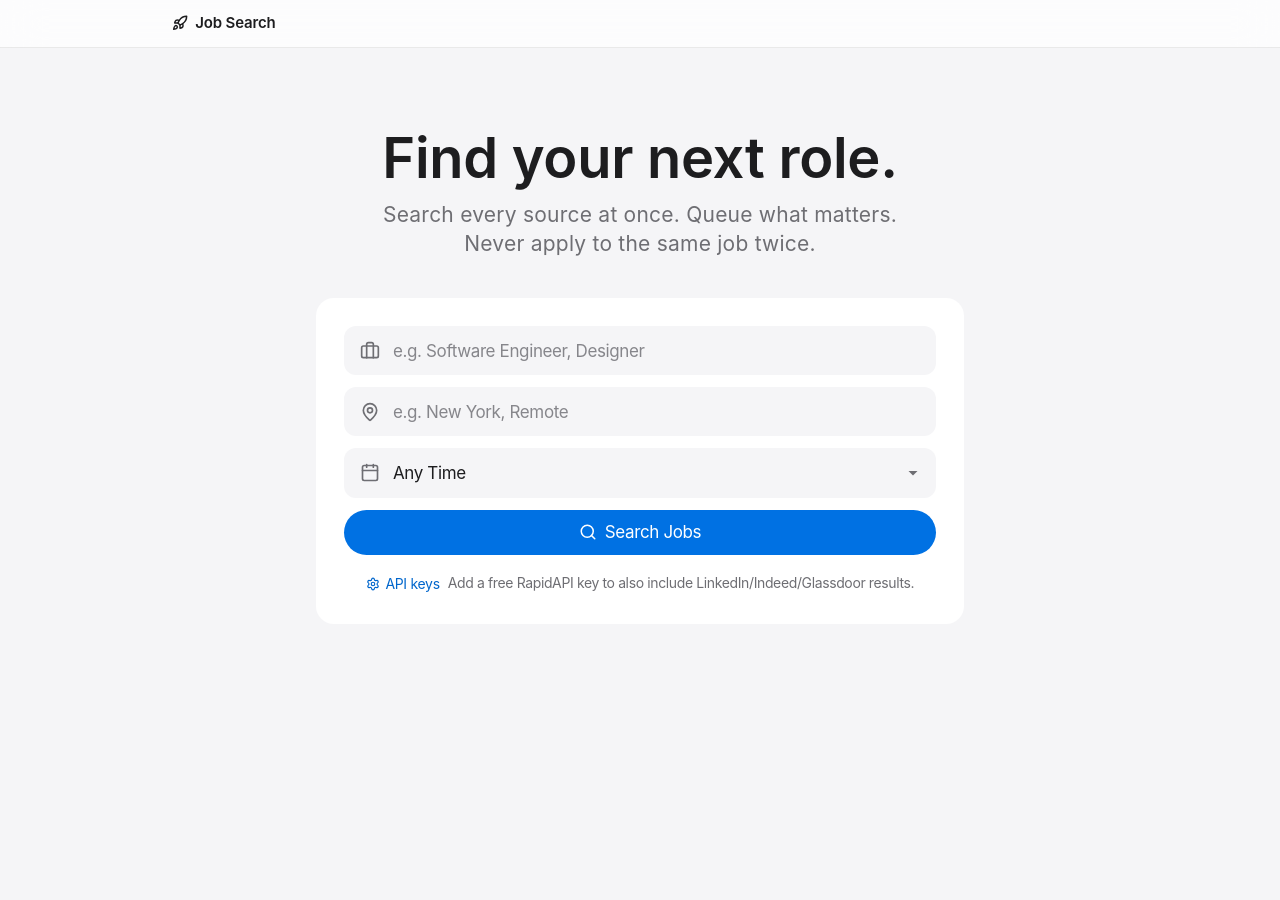
Scenario: apply queue › queues a job without navigating and persists it
The image size is (1280, 900).
Type "engineer" into the field named "Job title" at [640, 351], box x1=344 y1=326 x2=936 y2=375
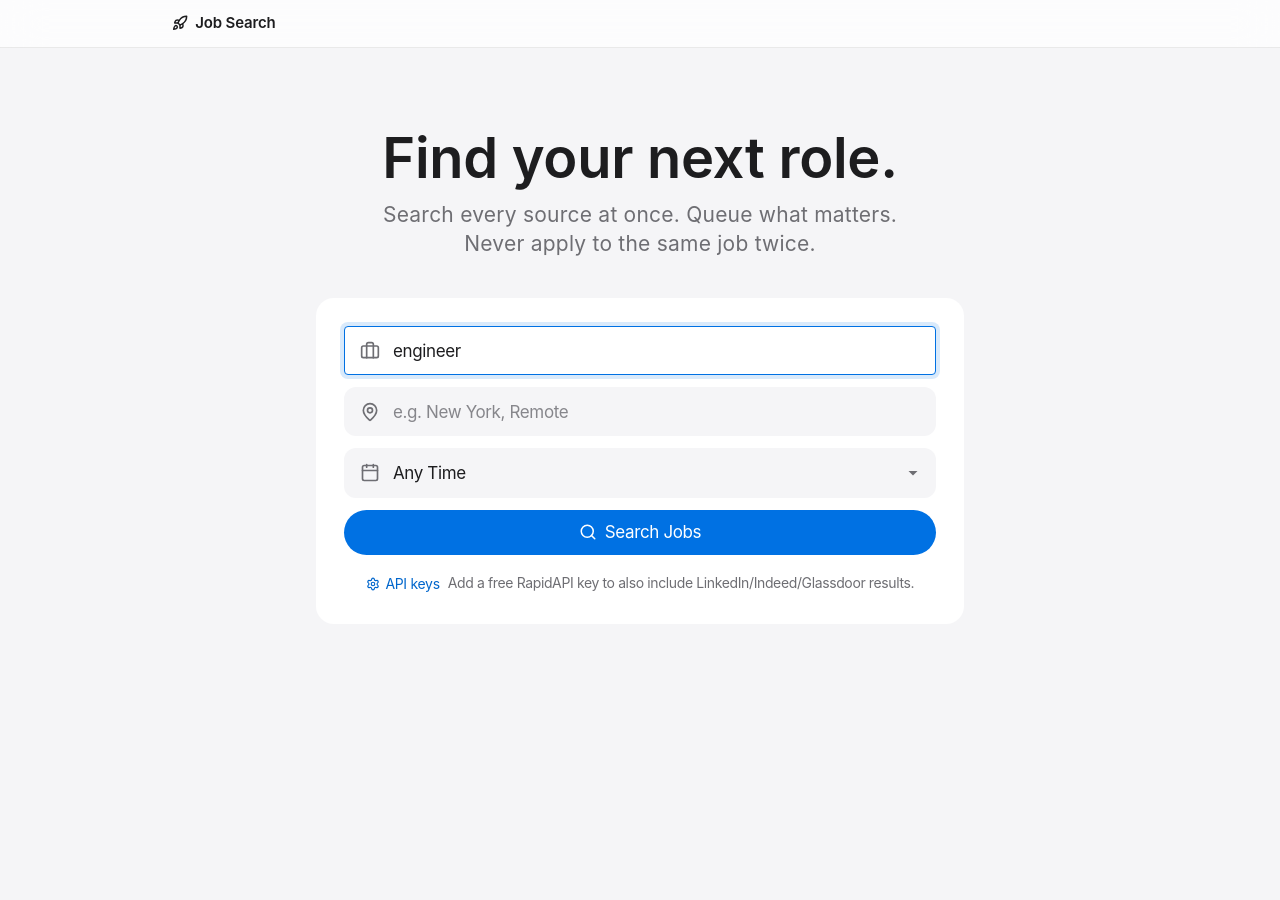
Click the button "Search Jobs" at [640, 532], box x1=344 y1=510 x2=936 y2=555
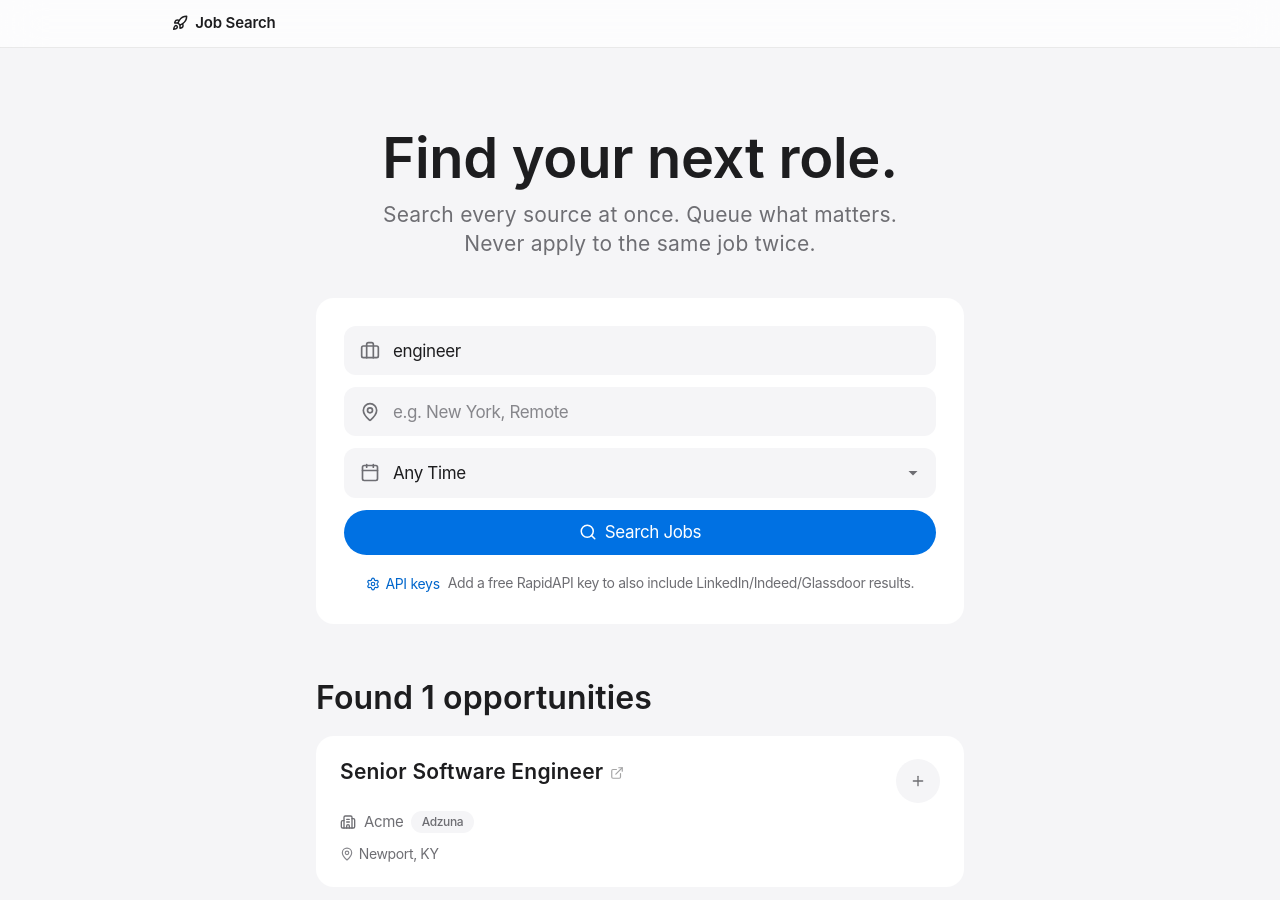
Click the button named "add senior software engineer to apply queue" at [918, 780], box x1=896 y1=758 x2=940 y2=802
(page scrolled)
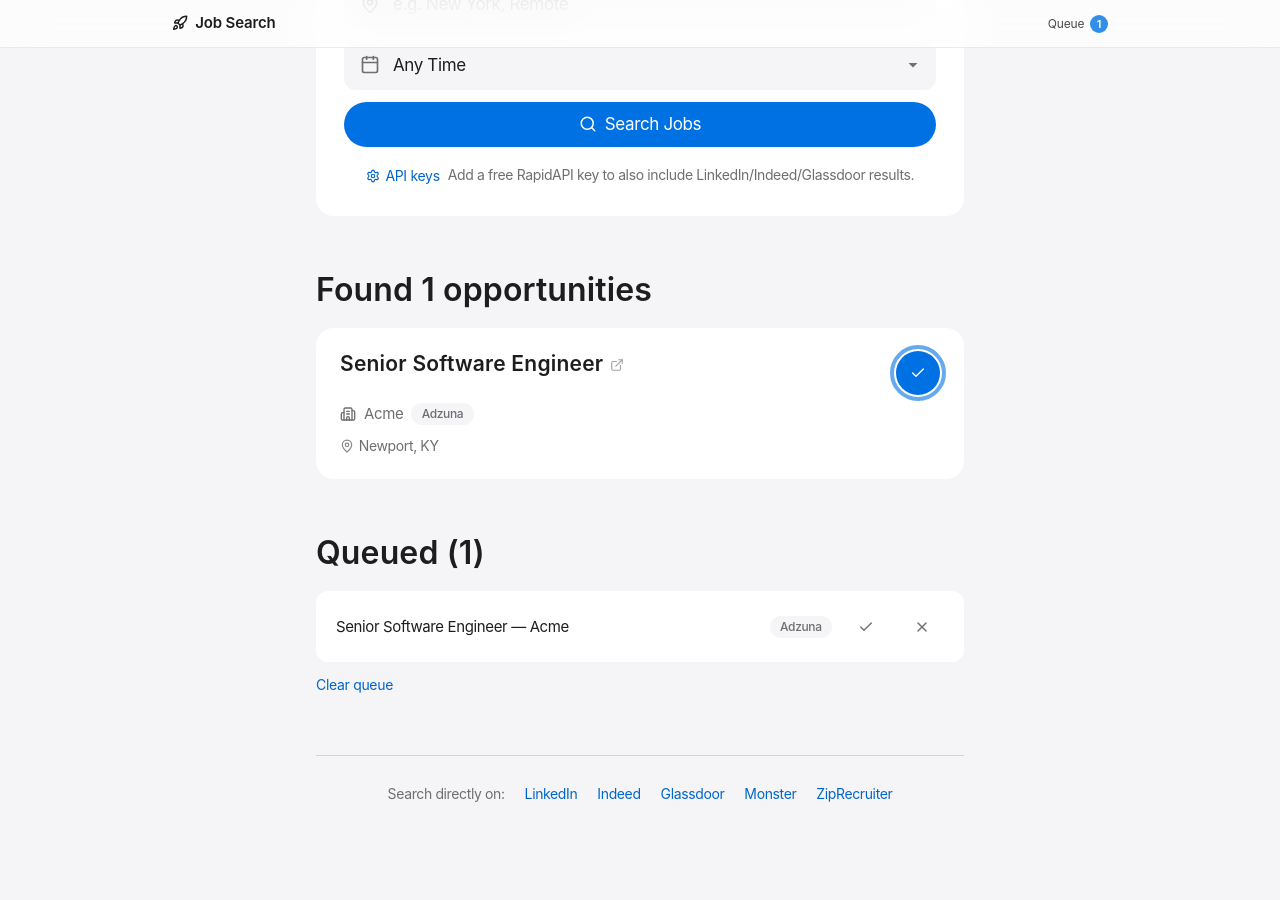
Expected: the heading "Queued (1)" is shown, x1=316 y1=533 x2=485 y2=572
